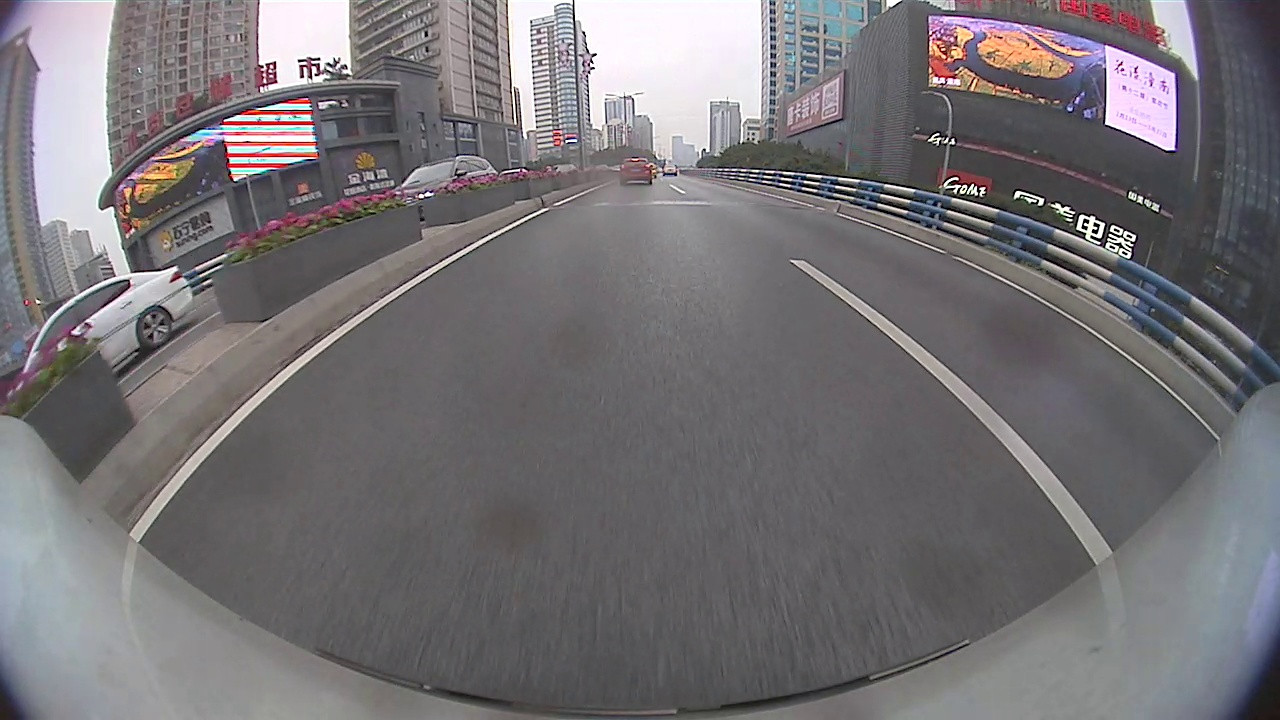car: (2, 261, 199, 403), (383, 151, 502, 221), (618, 153, 654, 186), (543, 160, 582, 176), (496, 165, 534, 179), (659, 160, 680, 178)
rear: (137, 306, 175, 349)
